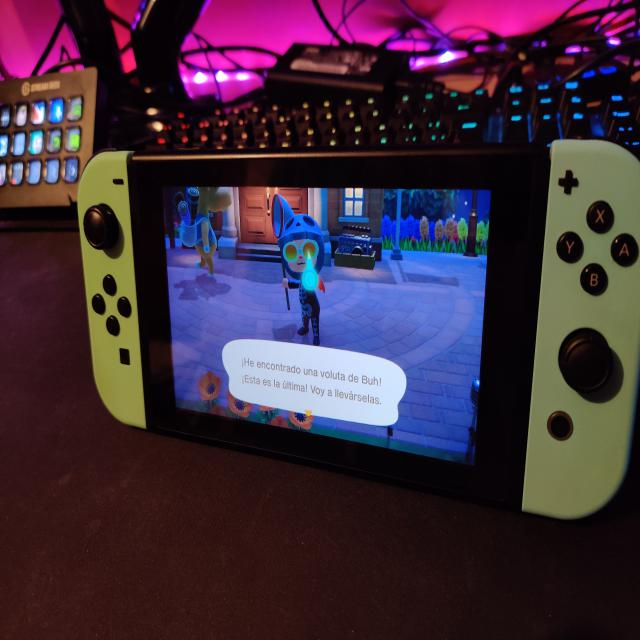text_bubble: (223, 335, 409, 430)
